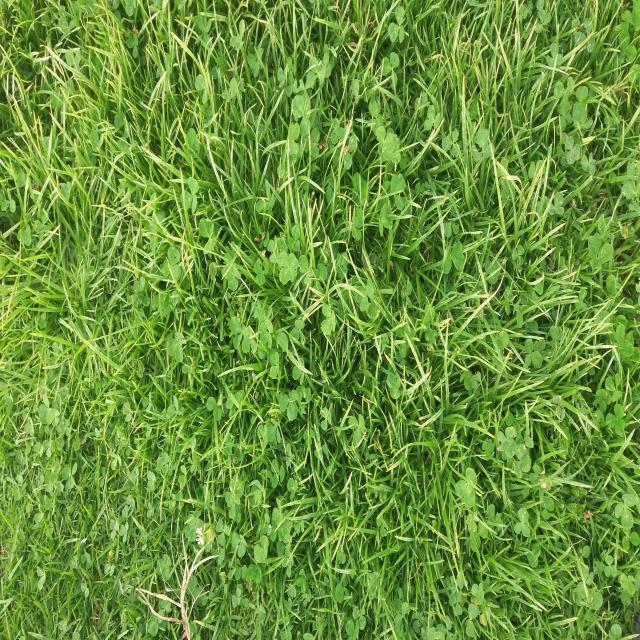Four Leaf Clover: (277, 252, 299, 285), (147, 471, 156, 492)
